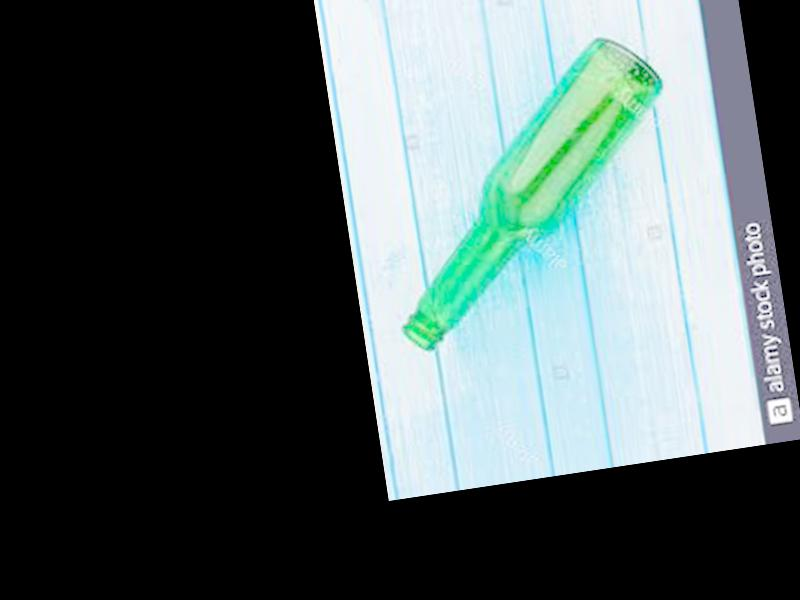Beer: (362, 25, 701, 357)
